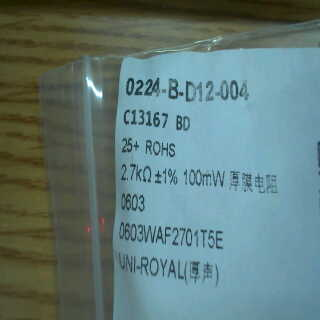2.7kR: (118, 161, 154, 187)
